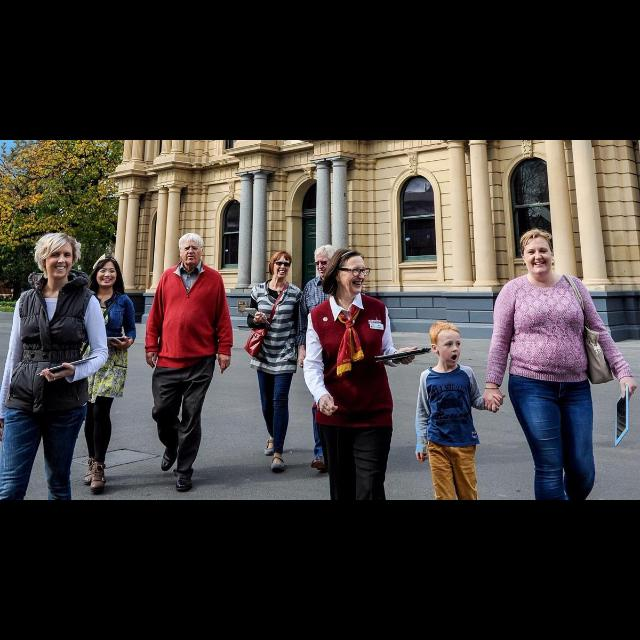head: (332, 250, 368, 298), (40, 234, 76, 280), (428, 322, 464, 368), (520, 232, 554, 278), (178, 232, 205, 266), (314, 246, 340, 278), (96, 256, 120, 288), (274, 251, 292, 279)
person: (143, 232, 235, 494), (296, 243, 364, 474), (76, 252, 138, 498), (244, 249, 310, 475)
